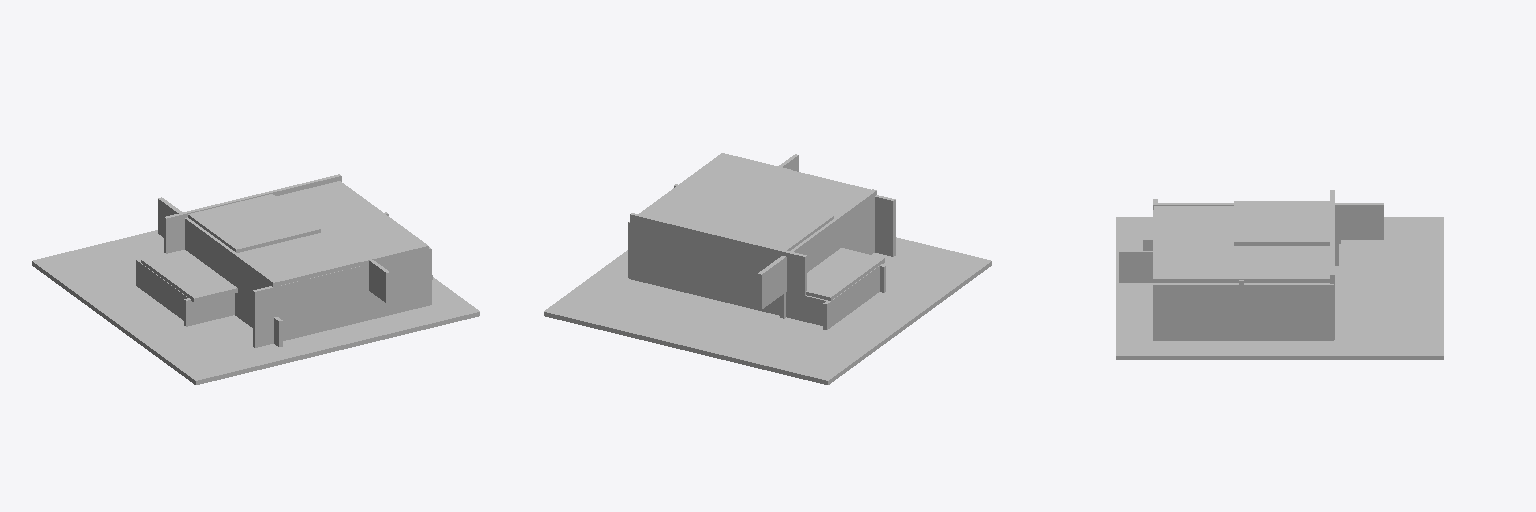
Rendered from HouseOneMesh.obj.
3 views of the same model, side by side, from view 1: azimuth 30°, elevation 25°; view 2: azimuth 150°, elevation 25°; view 3: azimuth 270°, elevation 25° (orthographic).
Visible parts, largest first — view 1: Cube_Cube.000; view 2: Cube_Cube.000; view 3: Cube_Cube.000.
Part boxes in pixels (bbox=[...]): Cube_Cube.000: bbox=[32, 174, 479, 384]; Cube_Cube.000: bbox=[544, 153, 991, 384]; Cube_Cube.000: bbox=[1116, 190, 1443, 359].
Bounding box in the file's own units: 10 × 2.33 × 10.